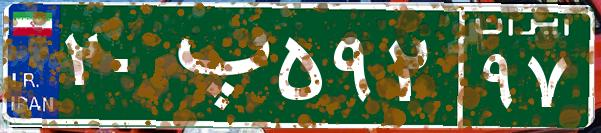0: (110, 28, 158, 105)
2: (385, 28, 445, 110), (57, 26, 110, 107)
5: (273, 28, 330, 110)
7: (525, 38, 570, 115)
9: (330, 28, 385, 110), (475, 38, 525, 113)
پ: (158, 15, 273, 115)
